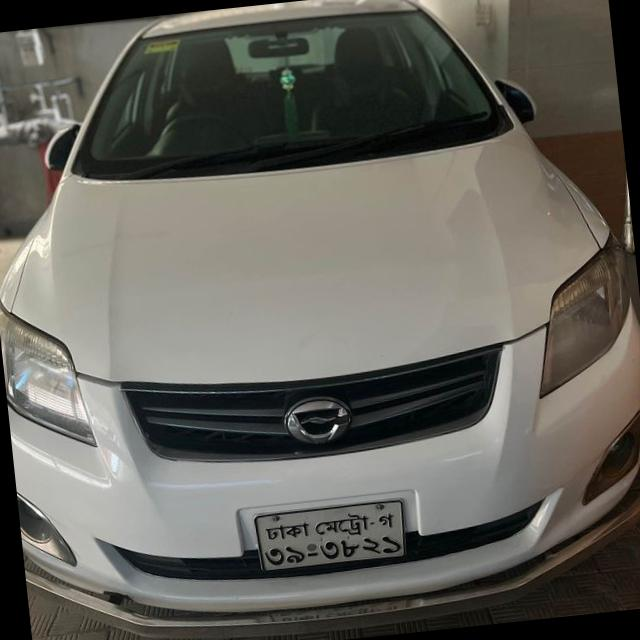Number-Plate: (252, 492, 414, 580)
